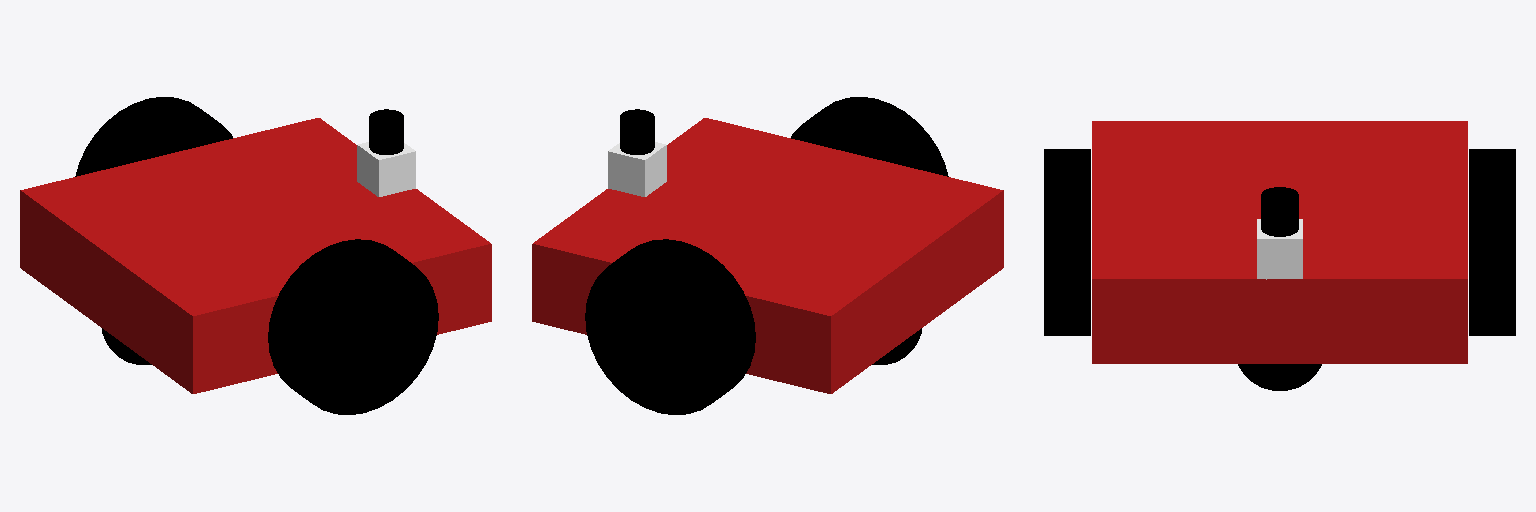
The robot description file, URDF, robot "trail_robo_rtab":
<?xml version="1.0" ?>

<robot name="trail_robo_rtab" >
    
  <material name="black">
    <color rgba="0.0 0.0 0.0 1.0"/>
  </material>
  <material name="blue">
    <color rgba="0.203125 0.23828125 0.28515625 1.0"/>
  </material>
  <material name="green">
    <color rgba="0.0 0.8 0.0 1.0"/>
  </material>
  <material name="grey">
    <color rgba="0.2 0.2 0.2 1.0"/>
  </material>
  <material name="orange">
    <color rgba="1.0 0.423529411765 0.0392156862745 1.0"/>
  </material>
  <material name="brown">
    <color rgba="0.870588235294 0.811764705882 0.764705882353 1.0"/>
  </material>
  <material name="red">
    <color rgba="0.80078125 0.12890625 0.1328125 1.0"/>
  </material>
  <material name="white">
    <color rgba="1.0 1.0 1.0 1.0"/>
  </material>  
  
  <gazebo reference="chassis">
    <material>Gazebo/Red</material>
  </gazebo>
  <gazebo reference="left_wheel">
    <material>Gazebo/Black</material>
  </gazebo>
  <gazebo reference="right_wheel">
    <material>Gazebo/Black</material>
  </gazebo>

  
<!-- fixed link  
<link name="robot_footprint"></link>
  <joint name="robot_footprint_joint" type="fixed">
    <origin xyz="0 0 0" rpy="0 0 0" />
    <parent link="robot_footprint"/>
    <child link="chassis" />
  </joint>
  
  -->
  
  <!--- trail_robo base link-->
  
    <link name="chassis">
    
    <pose>0 0 0.1 0 0 0</pose>
    
    <inertial>
      <mass value="2"/>
      <origin rpy="0 0 0" xyz="0 0 0"/>
      <inertia ixx="0.028333" ixy="0" ixz="0" iyy="0.028333" iyz="0" izz="0.05333"/>
    </inertial>
    
    <collision name="collision_chassis">
      <geometry>
        <box size="0.4 0.4 0.1"/>
      </geometry>
    </collision>
    
    <visual>
      <origin rpy="0 0 0" xyz="0 0 0"/>
      <geometry>
        <box size="0.4 0.4 0.1"/>
      </geometry>
      <material name="red"/>
    </visual>
    
    
    <inertial>
  	<mass value="0.25"/>
      <origin rpy="0 0 0" xyz="0 0 0"/>
      <inertia ixx="0.0004167" ixy="0" ixz="0" iyy="0.0004167" iyz="0" izz="0.0004167"/>
  </inertial>
     <collision name="caster_collision">
      <origin rpy=" 0 0 0" xyz="0.15 0 -0.05"/>
      <geometry>
        <sphere radius="0.049"/>
      </geometry>
      <surface>
        <friction>
          <ode>
            <mu>0</mu>
            <mu2>0</mu2>
            <slip1>1.5</slip1>
            <slip2>1.5</slip2>
          </ode>
        </friction>
      </surface>
    </collision>
    <visual name="caster_visual">
      <origin rpy=" 0 0 0" xyz="0.15 0 -0.05"/>
      <geometry>
        <sphere radius="0.05"/>
      </geometry>
      <material name="black"/>
    </visual>
    
    <inertial>
  	<mass value="0.25"/>
      <origin rpy="0 0 0" xyz="0 0 0"/>
      <inertia ixx="0.0004167" ixy="0" ixz="0" iyy="0.0004167" iyz="0" izz="0.0004167"/>
  </inertial>
     <collision name="caster_collision2">
      <origin rpy=" 0 0 0" xyz="-0.15 0 -0.05"/>
      <geometry>
        <sphere radius="0.049"/>
      </geometry>
      <surface>
        <friction>
          <ode>
            <mu>0</mu>
            <mu2>0</mu2>
            <slip1>1.5</slip1>
            <slip2>1.5</slip2>
          </ode>
        </friction>
      </surface>
    </collision>
    <visual name="caster_visual2">
      <origin rpy=" 0 0 0" xyz="-0.15 0 -0.05"/>
      <geometry>
        <sphere radius="0.05"/>
      </geometry>
      <material name="black"/>
    </visual>
     
    
    </link>
  
 <!-- 
  <link name="caster_wheel">
  
  <joint name="joint_caster_wheel" type="fixed">
    <origin rpy="0 0 0" xyz="0.19490 0 -0.05"/>   
    <parent link="chassis"/>
    <child link="caster_wheel" />
    <axis rpy="0 0 0" xyz="0 0 0"/>
  </joint>  
  
  -->
  
  
  <!-- Create wheel right -->  
    
  <link name="right_wheel">    
    <inertial>
      <mass value="0.2"/>
      <origin xyz="0 -0.025 0" rpy="1.5707 0 0"/>
      <inertia ixx="0.0005417" ixy="0" ixz="0" iyy="0.0005417" iyz="0" izz="0.001"/>
    </inertial>
    
    <collision name="right_wheel_collision">
       <origin xyz="0 -0.025 0" rpy="1.5707 0 0"/>
      <geometry>
        <cylinder length="0.05" radius="0.1"/>
      </geometry>
    </collision>
    
    <visual name="right_wheel_visual">
       <origin xyz="0 -0.025 0" rpy="1.5707 0 0"/>
      <geometry>
        <cylinder length="0.05" radius="0.1"/>
      </geometry>  
      <material name="black"/>    
    </visual>
    
  </link>
    
  <!--   Joint for right wheel  -->
  <joint name="joint_right_wheel" type="continuous">
    <origin rpy="0 0 0" xyz="0 -0.201 0"/>
    
    <parent link="chassis"/>
    <child link="right_wheel" />
    <axis xyz="0 1 0"/>

   </joint>
    
  <!-- Left Wheel link -->
    
  <link name="left_wheel">    
    <inertial>
      <mass value="0.2"/>
      <origin rpy="1.5707 0 0" xyz="0 0.025 0"/>
     <inertia ixx="0.0005417" ixy="0" ixz="0" iyy="0.0005417" iyz="0" izz="0.001"/>
    </inertial>
    
    <collision name="left_wheel_collision">
      <origin rpy="1.5707 0 0" xyz="0 0.025 0" />
      <geometry>
        <cylinder length="0.05" radius="0.1"/>
      </geometry>
    </collision>
    
    <visual name="left_wheel_visual">
      <origin rpy="1.5707 0 0" xyz="0 0.025 0"/>
      <geometry>
        <cylinder length="0.05" radius="0.1"/>
      </geometry>   
      <material name="black"/>    
    </visual>
    
  </link>
    
  <!--   Joint for left wheel  -->
  <joint name="joint_left_wheel" type="continuous">
    <origin rpy="0 0 0" xyz="0 0.201 0"/>
    <child link="left_wheel" />
    <parent link="chassis"/>
    <axis rpy="0 0 0" xyz="0 1 0"/>
   
  </joint>    
  
  
  <!--Camera-->
  
  <link name="camera">
  <inertial>
    <origin xyz="0.0 0.0 0.0" rpy="0.0 0.0 0.0"/>
    <mass value="0.1"/>
    <inertia ixx="1e-6" ixy="0.0" ixz="0.0" iyy="1e-6" iyz="0.0" izz="1e-6"/>
  </inertial>

  <visual name="camera_visual">
    <origin xyz="0.0 0.0 0.0" rpy="0.0 0.0 0.0"/>
    <geometry>
      <box size="0.05 0.05 0.05"/>
    </geometry>
    <material name="white"/>
  </visual>
  <collision>
    <origin xyz="0.0 0.0 0.0" rpy="0.0 0.0 0.0"/>
    <geometry>
      <box size="0.05 0.05 0.05"/>
    </geometry>
    
  </collision>
</link>

<joint name="camera_head_joint" type="fixed">
  <origin xyz="0.175 0 0.0725" rpy="0.0 0 0"/>
  <parent link="chassis"/>
  <child link="camera"/>
  <axis xyz="0 0 0.0"/>
  <limit lower="0.0" upper="0.0" effort="0.0" velocity="0.0"/>
</joint>
  

<link name="sensor_hokuyo">
  <inertial>
    <origin xyz="0.0 0.0 0.0" rpy="0.0 0.0 0.0"/>
    <mass value="0.1"/>
    <inertia ixx="1e-6" ixy="0.0" ixz="0.0" iyy="1e-6" iyz="0.0" izz="1e-6"/>
  </inertial>

  <visual>
    <origin xyz="0.0 0.0 0.0" rpy="0.0 0.0 0.0"/>
    <geometry>
      <cylinder radius="0.02" length="0.04"/>
    </geometry>
    <material name="black"/>
  </visual>
  <collision>
    <origin xyz="0.0 0.0 0.0" rpy="0.0 0.0 0.0"/>
    <geometry>
      <cylinder radius="0.02" length="0.04"/>
    </geometry>
    
  </collision>
</link>

<joint name="sensor_head_joint" type="fixed">
  <origin xyz="0 0 0.045" rpy="0.0 0 0"/>
  <parent link="camera"/>
  <child link="sensor_hokuyo"/>
  <axis xyz="0 0 0.0"/>
</joint>
  
  
  <!-- Plugins -->
  
 <gazebo>
    <plugin name="differential_drive_controller" filename="libgazebo_ros_diff_drive.so">
      <legacyMode>false</legacyMode>
      <alwaysOn>true</alwaysOn>
      <updateRate>10</updateRate>
      <leftJoint>joint_left_wheel</leftJoint>
      <rightJoint>joint_right_wheel</rightJoint>
      <wheelSeparation>0.5</wheelSeparation>
      <wheelDiameter>0.2</wheelDiameter>
      <torque>100</torque>
      <commandTopic>cmd_vel</commandTopic>
      <odometryTopic>odom</odometryTopic>
      <odometryFrame>odom</odometryFrame>
      <robotBaseFrame>chassis</robotBaseFrame>
      <publishWheelTF>false</publishWheelTF>
      <publishWheelJointState>false</publishWheelJointState>
      <rosDebugLevel>na</rosDebugLevel>
      <wheelAcceleration>0</wheelAcceleration>
      <wheelTorque>50</wheelTorque>
      <odometrySource>world</odometrySource>
      <publishTf>1</publishTf>
      <publishOdomTF>true</publishOdomTF>
    </plugin>
  </gazebo>
  
  
  
  <gazebo reference="camera">
    <sensor type="camera" name="camera1">
      <update_rate>10.0</update_rate>
      <camera name="head">
        <horizontal_fov>1.3962634</horizontal_fov>
        <image>
          <width>800</width>
          <height>800</height>
          <format>R8G8B8</format>
        </image>
        <clip>
          <near>0.2</near>
          <far>300</far>
        </clip>
      </camera>
      <plugin name="camera_controller" filename="libgazebo_ros_camera.so">
        <alwaysOn>true</alwaysOn>
        <updateRate>0.0</updateRate>
        <cameraName>camera</cameraName>
        <imageTopicName>rgb/image_raw</imageTopicName>
        <cameraInfoTopicName>rgb/camera_info</cameraInfoTopicName>
        <frameName>camera</frameName>
        <hackBaseline>0.07</hackBaseline>
        <distortionK1>0.0</distortionK1>
        <distortionK2>0.0</distortionK2>
        <distortionK3>0.0</distortionK3>
        <distortionT1>0.0</distortionT1>
        <distortionT2>0.0</distortionT2>
      </plugin>
    </sensor>
  </gazebo>
  
  <gazebo reference="sensor_hokuyo">
    <sensor type="ray" name="head_hokuyo_sensor">
      <pose>0 0 0 0 0 0</pose>
      <visualize>False</visualize>
      <update_rate>10</update_rate>
      <ray>
        <scan>
         <!-- <vertical >
            <samples>4</samples>
            <resolution>1</resolution>
            <min_angle>-0.0698132</min_angle>
            
            <max_angle>0</max_angle>
          </vertical> -->
          
          <horizontal>
            <samples>720</samples>
            <resolution>1</resolution>
            <min_angle>-1.570796</min_angle>
            <max_angle>1.570796</max_angle>
          </horizontal>
        </scan>
        <range>
          <min>0.10</min>
          <max>30.0</max>
          <resolution>0.01</resolution>
        </range>
        <noise>
          <type>gaussian</type>
          <!-- Noise parameters based on published spec for Hokuyo laser
               achieving "+-30mm" accuracy at range < 10m.  A mean of 0.0m and
               stddev of 0.01m will put 99.7% of samples within 0.03m of the true
               reading. -->
          <mean>0.0</mean>
          <stddev>0.01</stddev>
        </noise>
      </ray>
      <plugin name="gazebo_ros_head_hokuyo_controller" filename="libgazebo_ros_laser.so">
        <topicName>hokuyo/scan</topicName>
        <frameName>sensor_hokuyo</frameName>
      </plugin>
    </sensor>
  </gazebo>
  
</robot>

--- What the picture shows (computed from the rendered views, not written in the file) ---
The picture shows the robot from 3 angles, left to right: view 1: azimuth 30°, elevation 25°; view 2: azimuth 150°, elevation 25°; view 3: azimuth 270°, elevation 25°; orthographic projection.
Model trail_robo_rtab with 5 links and 4 joints (2 continuous, 2 fixed), rooted at chassis, posed all joints at 0.
Links seen in each view (by area): view 1: chassis, right_wheel, left_wheel, camera, sensor_hokuyo; view 2: chassis, left_wheel, right_wheel, camera, sensor_hokuyo; view 3: chassis, right_wheel, left_wheel, camera, sensor_hokuyo.
Boxes of the visible links, x1,y1,x2,y2 form: chassis: [20, 118, 491, 393]; right_wheel: [268, 239, 438, 414]; left_wheel: [75, 97, 232, 176]; camera: [357, 142, 415, 196]; sensor_hokuyo: [369, 109, 403, 154]; chassis: [532, 118, 1003, 393]; left_wheel: [585, 239, 755, 414]; right_wheel: [791, 97, 948, 176]; camera: [608, 142, 666, 196]; sensor_hokuyo: [620, 109, 654, 154]; chassis: [1092, 121, 1467, 390]; right_wheel: [1044, 149, 1090, 335]; left_wheel: [1469, 149, 1515, 335]; camera: [1257, 219, 1302, 279]; sensor_hokuyo: [1261, 187, 1298, 236].
Bounding box of the posed robot: 0.4 × 0.502 × 0.2375 m (x, y, z).
Geometry: primitives only (box / cylinder / sphere), no mesh files.
